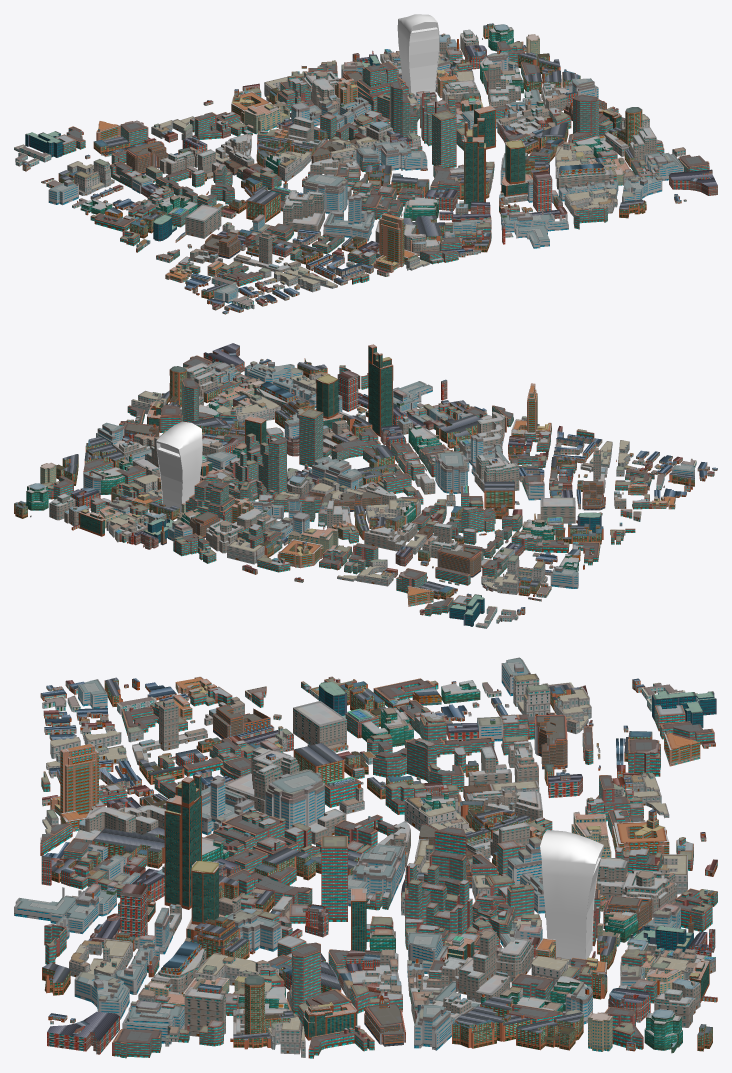
3 renders of one model, top to bottom at view 1: azimuth 30°, elevation 25°; view 2: azimuth 150°, elevation 25°; view 3: azimuth 270°, elevation 25°, orthographic. The views are drawn at different scales.
Parts seen in each view (by area): view 1: Buildings_7_20223323222133_buildings_01_INDEX0, Buildings_4_20223323222133_landmark_gb_ldn_fenchurch_INDEX0; view 2: Buildings_7_20223323222133_buildings_01_INDEX0, Buildings_4_20223323222133_landmark_gb_ldn_fenchurch_INDEX0; view 3: Buildings_7_20223323222133_buildings_01_INDEX0, Buildings_4_20223323222133_landmark_gb_ldn_fenchurch_INDEX0.
Part boxes in pixels (box(x1,y1,x2,y2)): Buildings_7_20223323222133_buildings_01_INDEX0: box(14, 23, 717, 314); Buildings_4_20223323222133_landmark_gb_ldn_fenchurch_INDEX0: box(397, 14, 439, 95); Buildings_7_20223323222133_buildings_01_INDEX0: box(14, 343, 717, 628); Buildings_4_20223323222133_landmark_gb_ldn_fenchurch_INDEX0: box(156, 421, 202, 512); Buildings_7_20223323222133_buildings_01_INDEX0: box(14, 657, 717, 1058); Buildings_4_20223323222133_landmark_gb_ldn_fenchurch_INDEX0: box(540, 830, 603, 959).
Bounding box in the file's own units: 129099 × 21056 × 100583.
